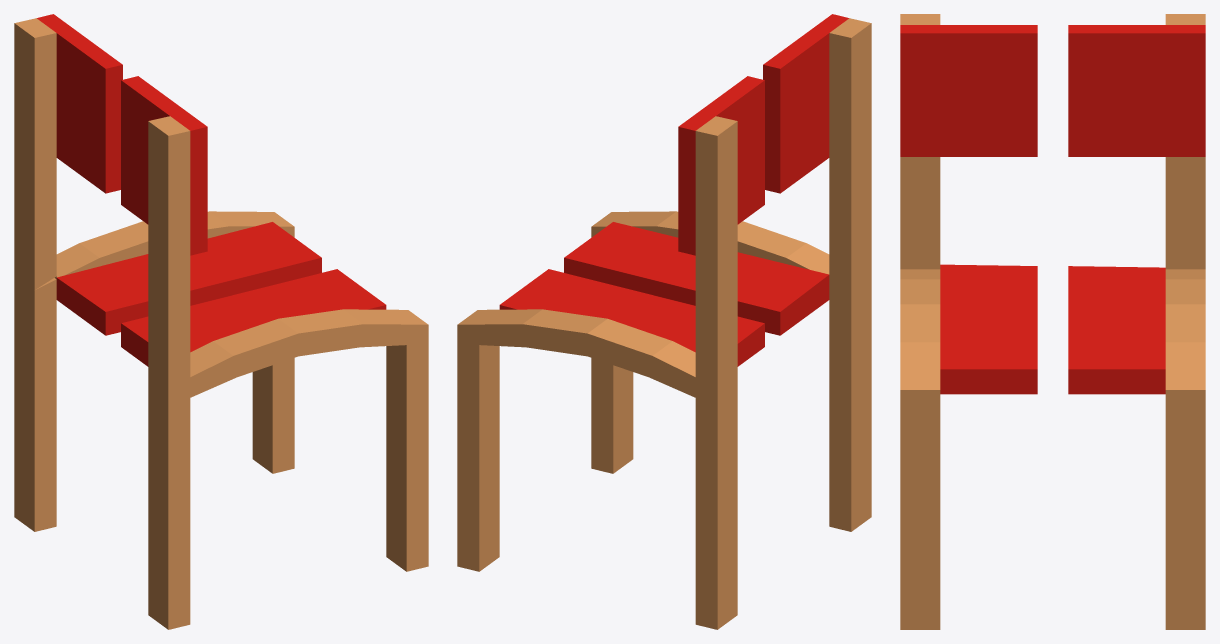
The model's file is Chair_Broken.fbx.
3 views of the same model, side by side, from view 1: azimuth 30°, elevation 25°; view 2: azimuth 150°, elevation 25°; view 3: azimuth 270°, elevation 25° (orthographic).
Parts seen in each view (by area): view 1: Cube.002, Cube.001; view 2: Cube.001, Cube.002; view 3: Cube.002, Cube.001.
Boxes of the visible parts, x1=… form: Cube.002: x1=121, y1=76, x2=428, y2=629; Cube.001: x1=14, y1=14, x2=321, y2=531; Cube.001: x1=457, y1=76, x2=764, y2=629; Cube.002: x1=564, y1=14, x2=871, y2=531; Cube.002: x1=900, y1=14, x2=1037, y2=629; Cube.001: x1=1068, y1=14, x2=1205, y2=629.
Size of the model in its own units: 154 by 280 by 158.
